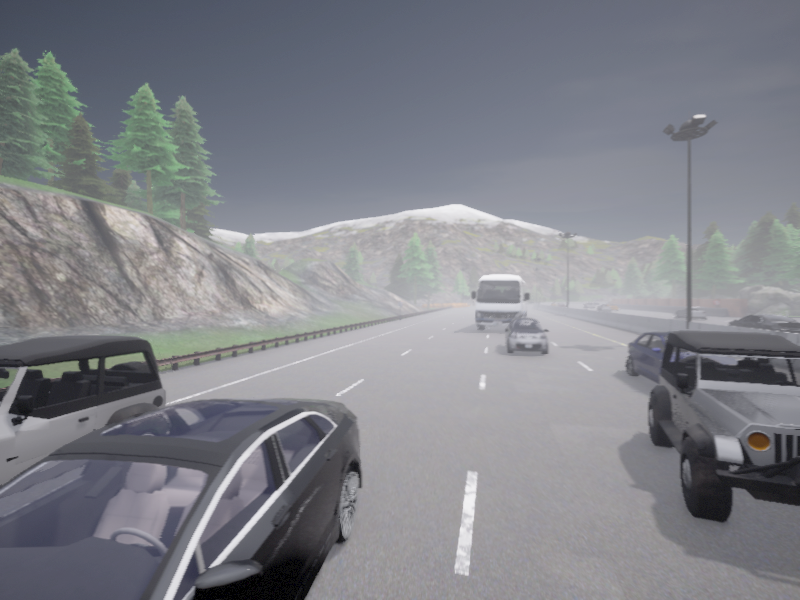vehicle: (0, 398, 362, 599), (649, 331, 799, 521), (0, 335, 165, 486), (471, 274, 529, 330), (626, 331, 676, 383), (505, 318, 547, 354), (727, 314, 799, 332), (675, 307, 705, 319), (597, 304, 611, 311), (608, 303, 617, 310), (584, 302, 594, 308), (556, 303, 565, 306), (593, 302, 599, 305), (551, 302, 556, 305)
